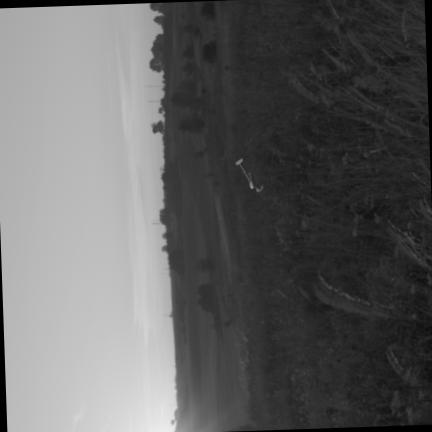Shahed: (236, 158, 263, 191)
